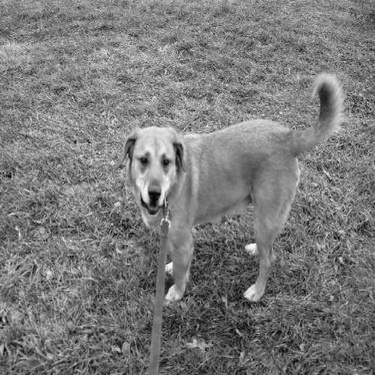dog: (109, 67, 353, 308)
